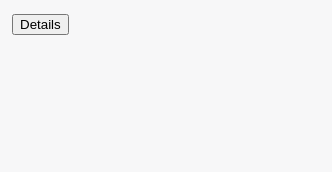
typing children › supports render-prop children
The width and height of the screenshot is (332, 172).
Expected: the text "Shown" is not shown
Click the button "Details" at (40, 24), box [12,14,69,35]
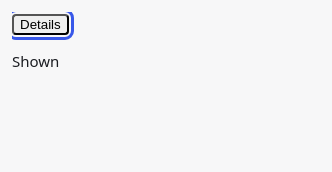
Expected: the text "Shown" is shown, [12,51,59,71]
